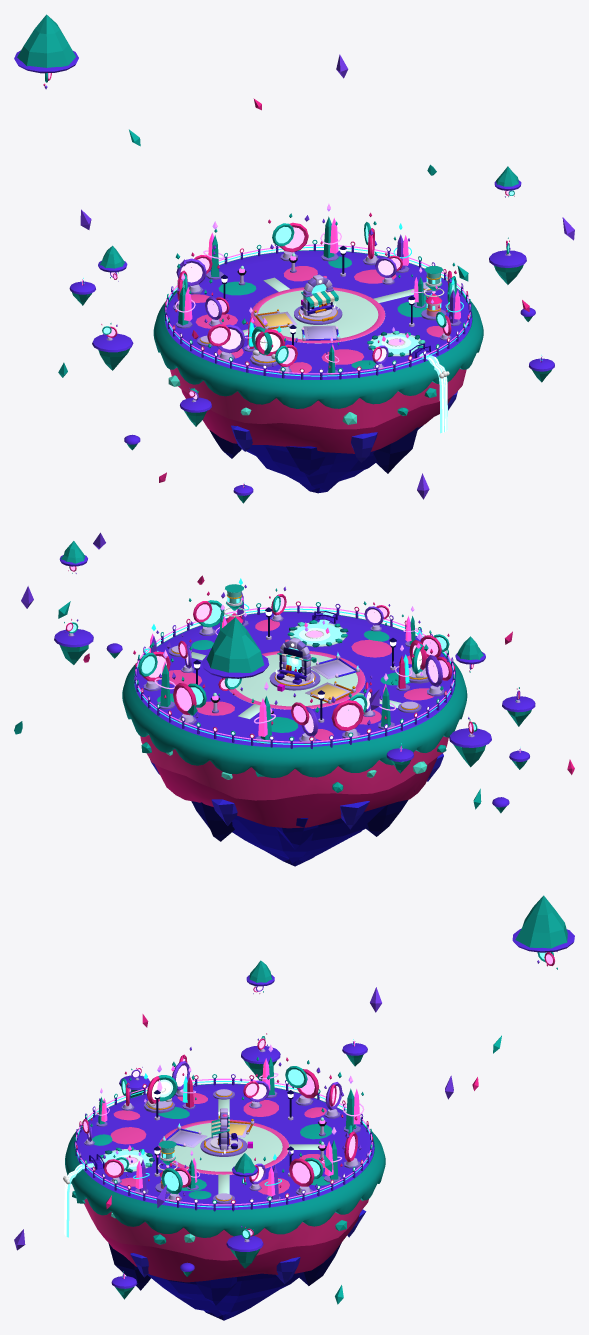
File: multiverse_island.fbx
3 views of the same model, one above another, from view 1: azimuth 30°, elevation 25°; view 2: azimuth 150°, elevation 25°; view 3: azimuth 270°, elevation 25° (orthographic). The views are drawn at different scales.
Parts seen in each view (by area): view 1: Multiverse_Island, Multiverse_FloatingRocks, Multiverse_Glow, Multiverse_Trees, Multiverse_Paths, Multiverse_Dressing; view 2: Multiverse_Island, Multiverse_FloatingRocks, Multiverse_Glow, Multiverse_Trees, Multiverse_Paths, Multiverse_Dressing, Multiverse_Portal, Multiverse_Stall, Multiverse_BossPlinth; view 3: Multiverse_Island, Multiverse_Glow, Multiverse_FloatingRocks, Multiverse_Trees, Multiverse_Paths, Multiverse_Dressing, Multiverse_BossPlinth.
Boxes of the visible parts, bbox=[...] form: Multiverse_Island: bbox=[153, 250, 483, 493]; Multiverse_FloatingRocks: bbox=[14, 14, 574, 503]; Multiverse_Glow: bbox=[48, 73, 542, 487]; Multiverse_Trees: bbox=[173, 212, 461, 375]; Multiverse_Paths: bbox=[197, 277, 438, 346]; Multiverse_Dressing: bbox=[164, 240, 471, 379]; Multiverse_Island: bbox=[122, 611, 467, 866]; Multiverse_FloatingRocks: bbox=[14, 532, 574, 813]; Multiverse_Glow: bbox=[67, 566, 520, 752]; Multiverse_Trees: bbox=[133, 585, 452, 743]; Multiverse_Paths: bbox=[168, 645, 421, 719]; Multiverse_Dressing: bbox=[134, 584, 455, 748]; Multiverse_Portal: bbox=[275, 637, 314, 683]; Multiverse_Stall: bbox=[277, 647, 316, 684]; Multiverse_BossPlinth: bbox=[269, 670, 320, 690]; Multiverse_Island: bbox=[65, 1083, 385, 1320]; Multiverse_Glow: bbox=[63, 952, 552, 1278]; Multiverse_FloatingRocks: bbox=[14, 895, 574, 1304]; Multiverse_Trees: bbox=[82, 1047, 363, 1202]; Multiverse_Paths: bbox=[158, 1089, 319, 1203]; Multiverse_Dressing: bbox=[74, 1074, 373, 1211]; Multiverse_BossPlinth: bbox=[200, 1135, 247, 1156].
Bounding box in the file's own units: 190 × 158 × 214.
